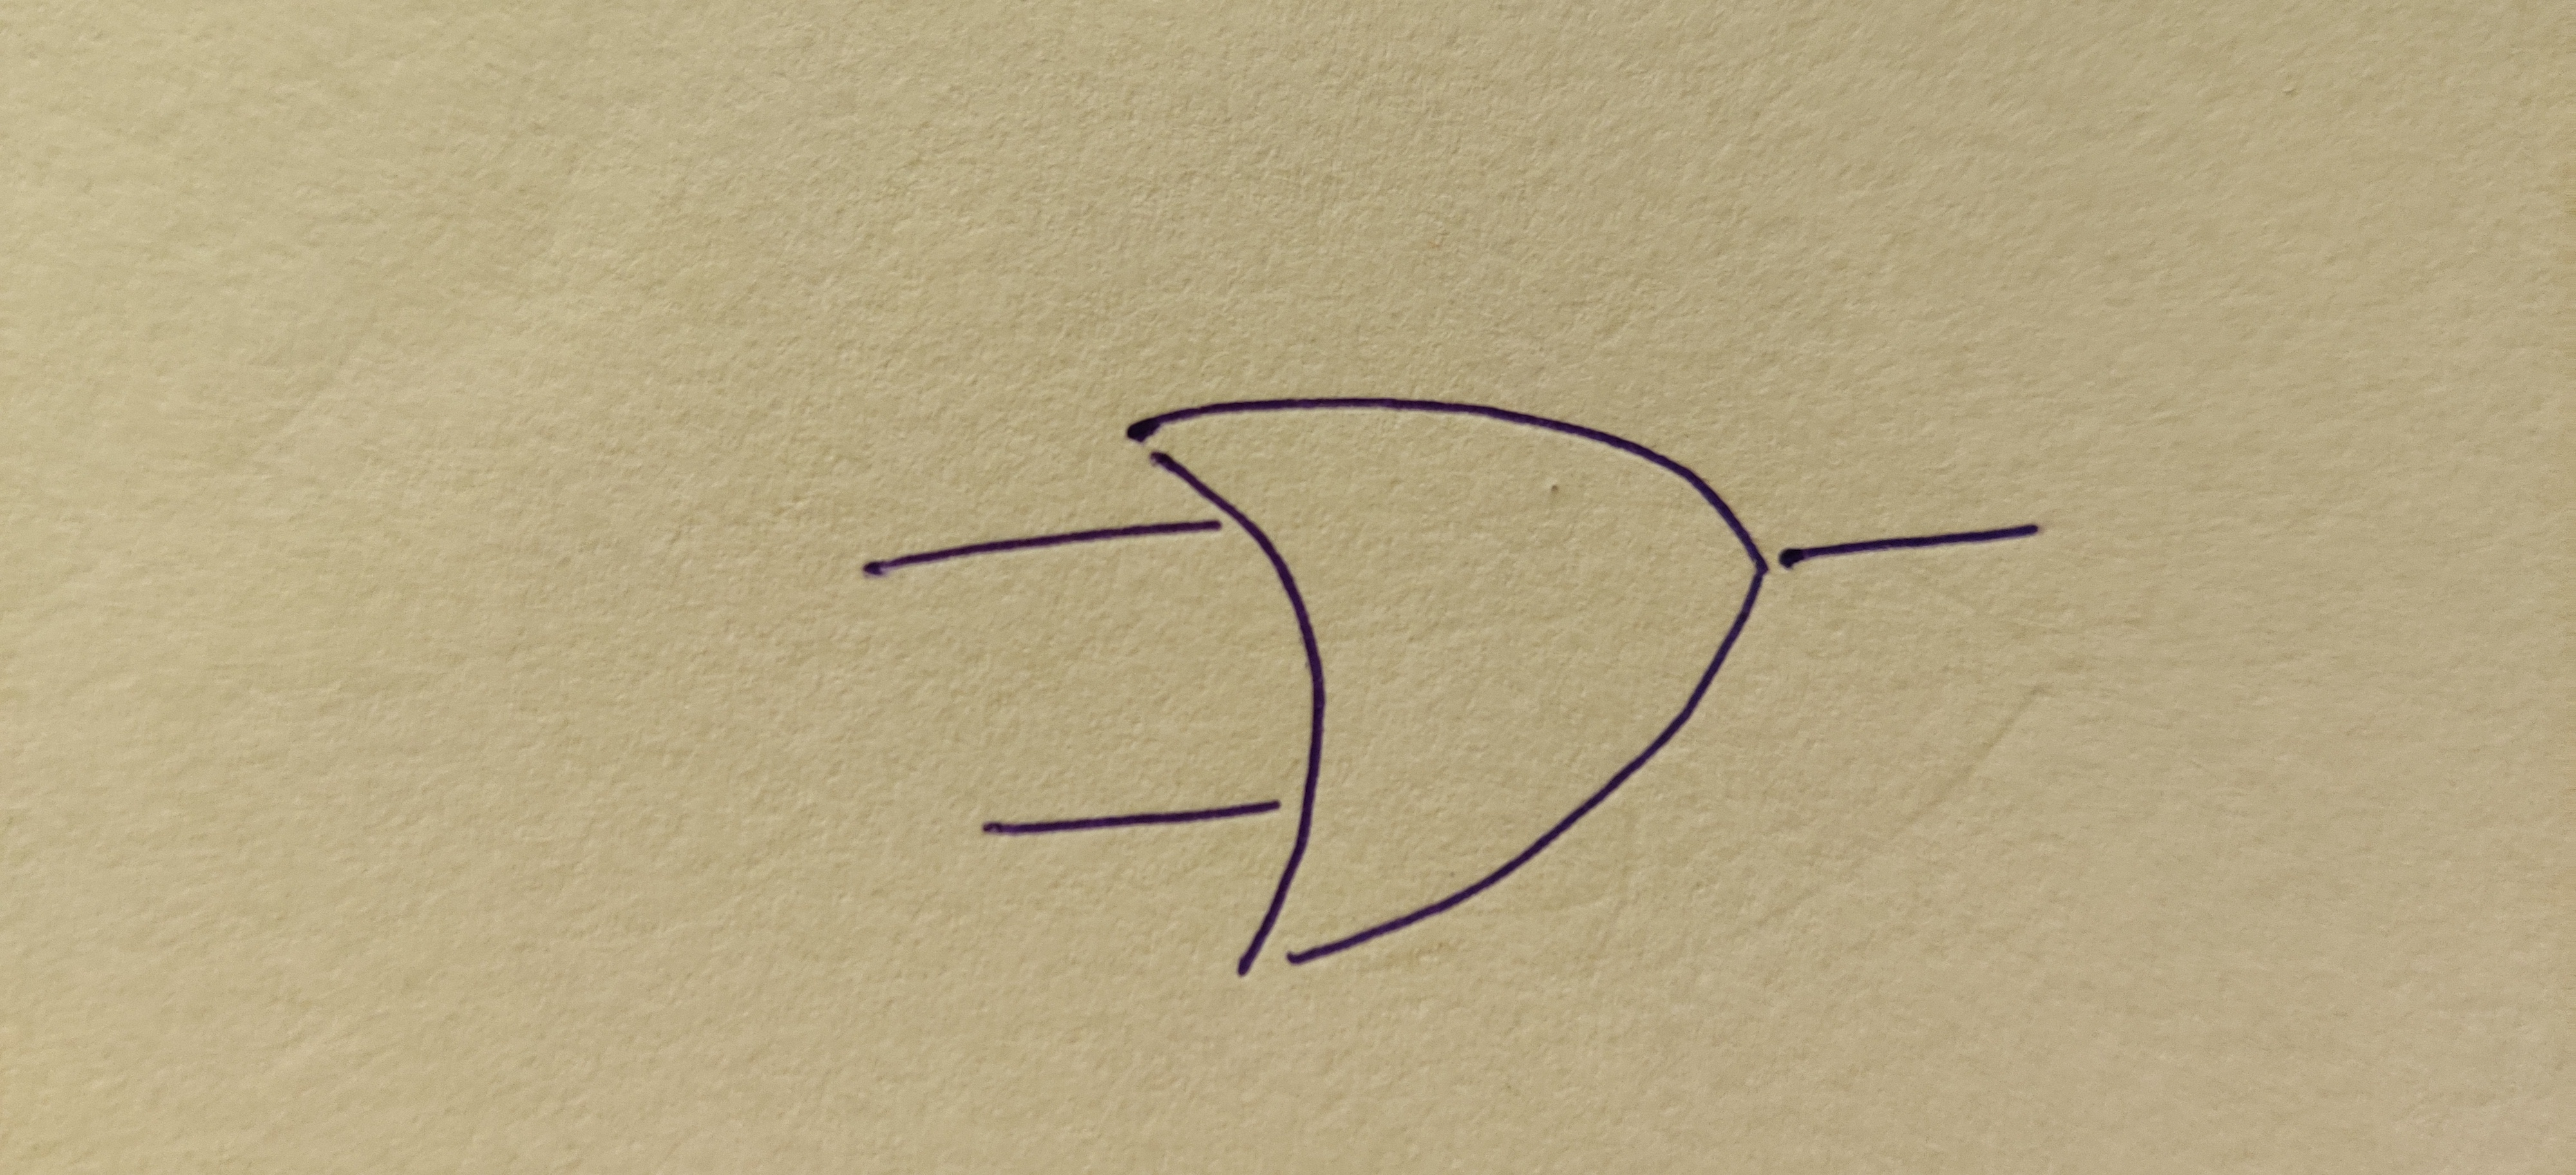or: (1125, 396, 1766, 953)
